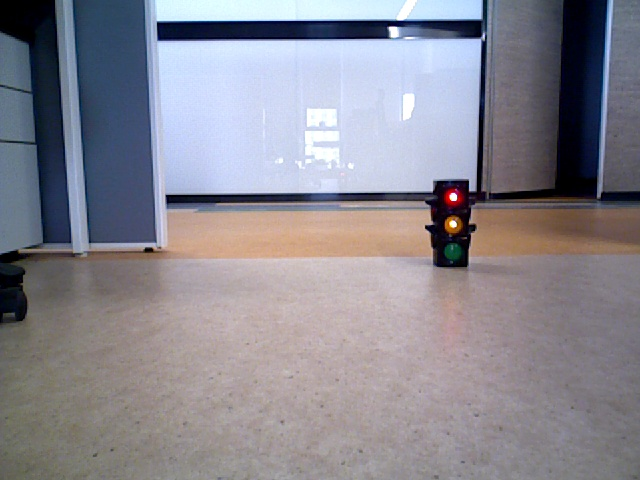red: (434, 182, 465, 264)
